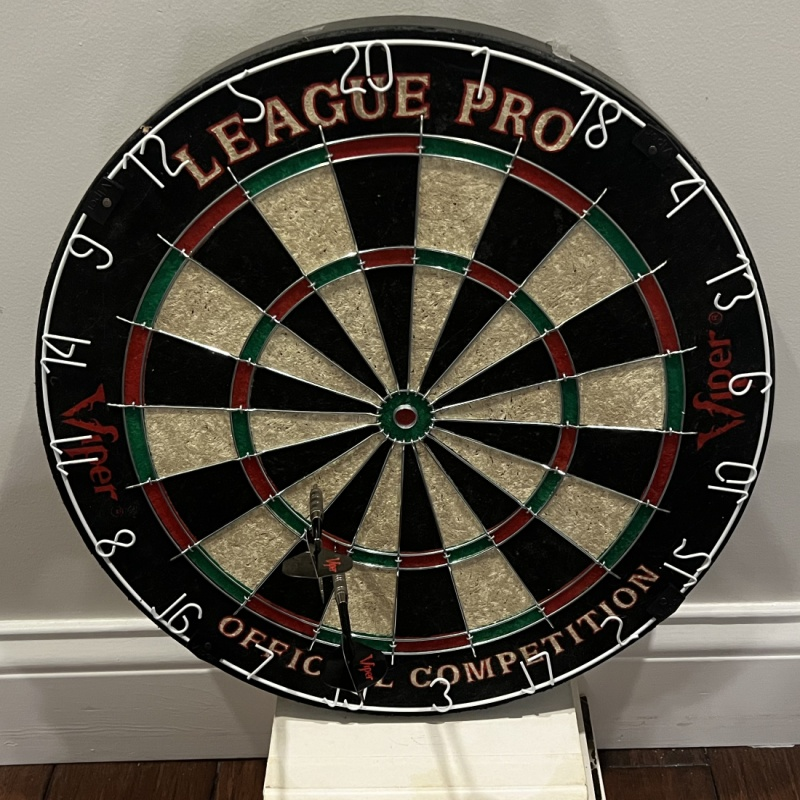dart: (324, 539, 353, 605), (307, 477, 325, 501)
eleven: (49, 429, 100, 478)
six: (729, 372, 774, 397)
three: (427, 677, 457, 713)
twenty: (330, 38, 396, 100)
